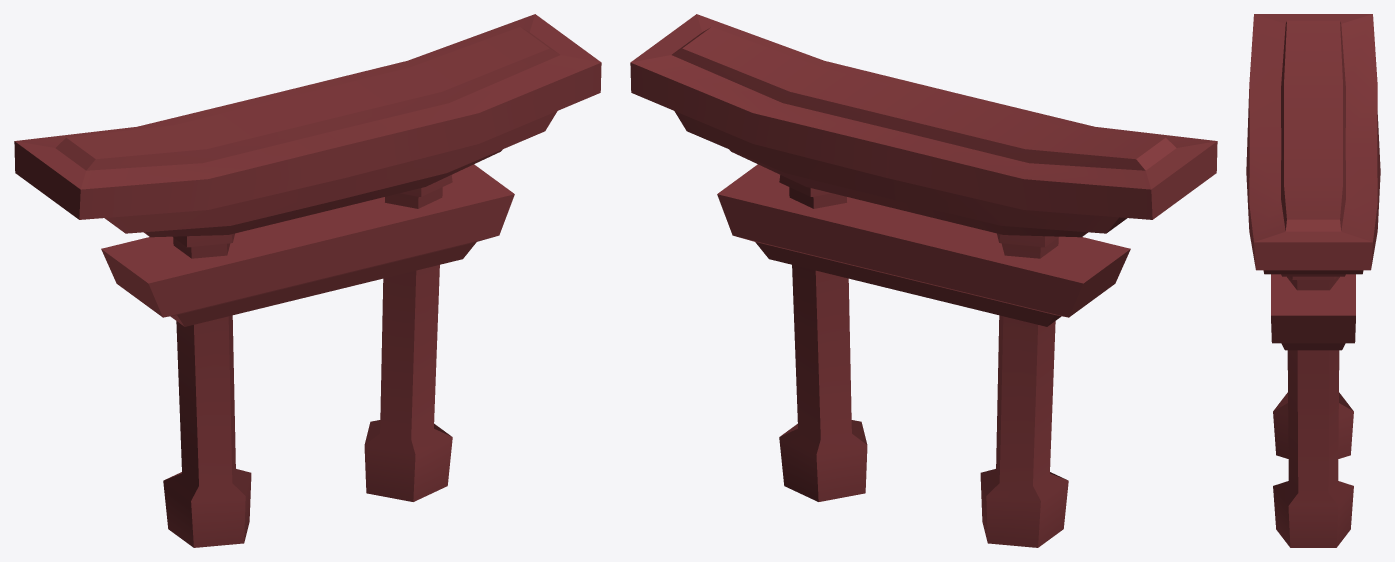
The model's file is Gate_Tiny.fbx.
The picture shows the model from 3 angles, left to right: view 1: azimuth 30°, elevation 25°; view 2: azimuth 150°, elevation 25°; view 3: azimuth 270°, elevation 25°; orthographic projection. The views are drawn at different scales.
Parts seen in each view (by area): view 1: SM_Bld_Samurai_Arch_01; view 2: SM_Bld_Samurai_Arch_01; view 3: SM_Bld_Samurai_Arch_01.
Part boxes in pixels (x1,y1,x2,y2): SM_Bld_Samurai_Arch_01: [14, 14, 601, 547]; SM_Bld_Samurai_Arch_01: [630, 14, 1217, 547]; SM_Bld_Samurai_Arch_01: [1246, 14, 1380, 547].
Size of the model in its own units: 152 by 118 by 37.88.
